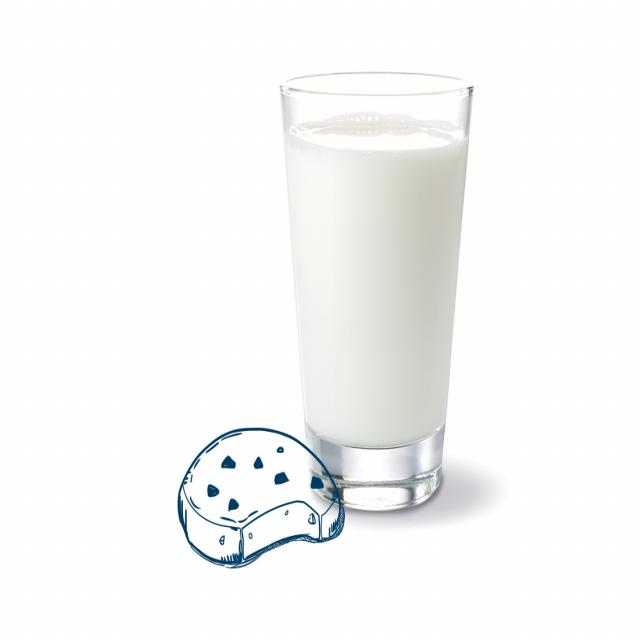Milk carton/jug: (280, 113, 470, 450)
